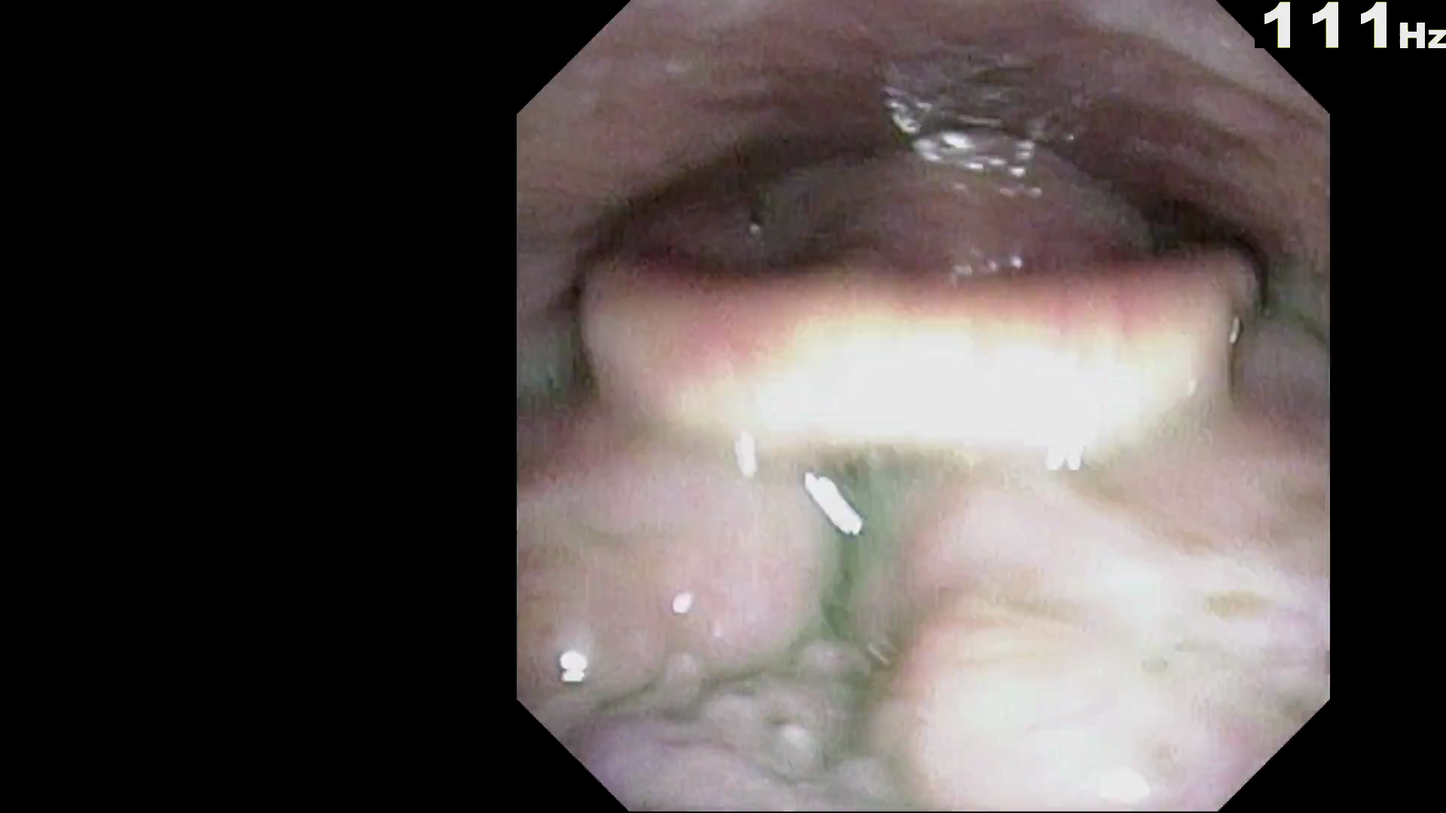epiglottis: (574, 219, 1243, 437)
trachea: (896, 322, 1035, 475)
